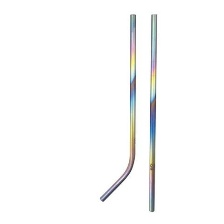drinking_straw: (95, 11, 140, 205), (141, 10, 162, 217)
